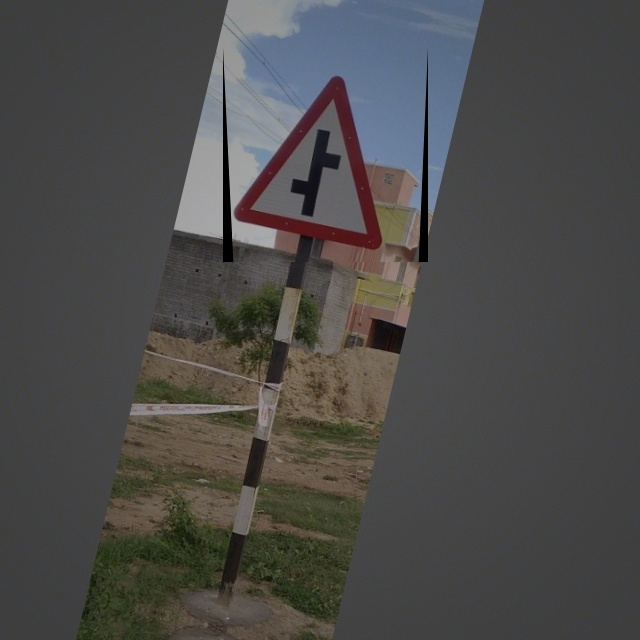Staggered_Intersection: (223, 47, 428, 262)
